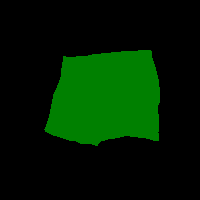mutande: (44, 50, 160, 146)
